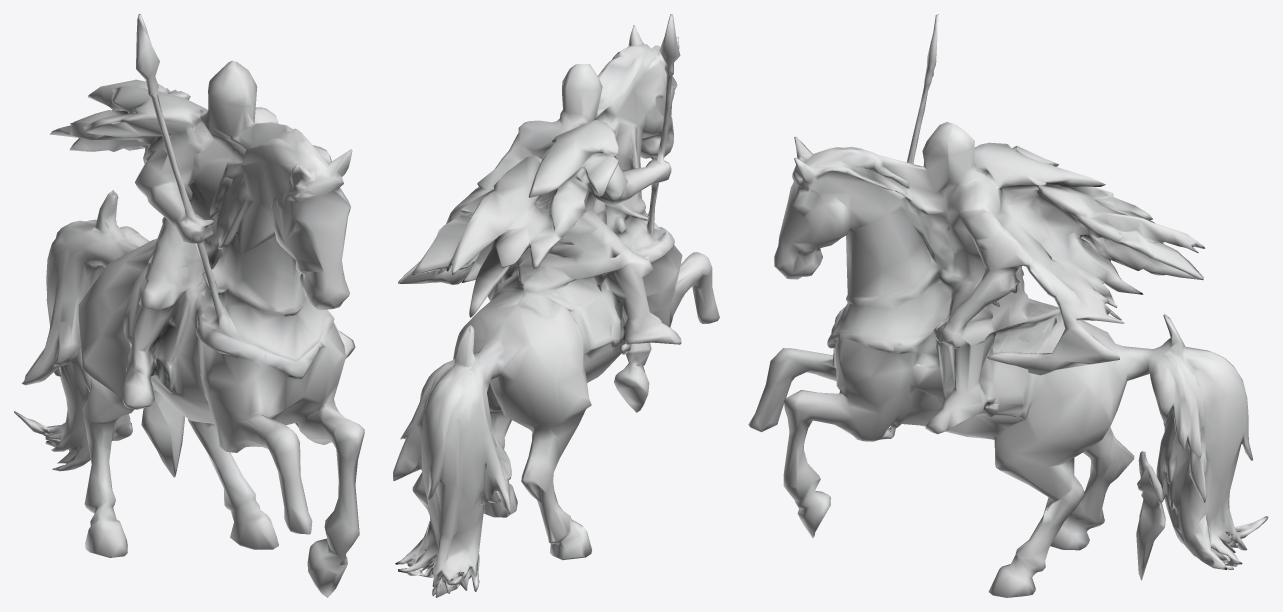
The model's file is Knight.fbx.
3 renders of one model, left to right at view 1: azimuth 30°, elevation 25°; view 2: azimuth 150°, elevation 25°; view 3: azimuth 270°, elevation 25°, orthographic. The views are drawn at different scales.
Parts seen in each view (by area): view 1: Mesh_0; view 2: Mesh_0; view 3: Mesh_0.
Part boxes in pixels (bbox=[...]): Mesh_0: bbox=[14, 14, 364, 597]; Mesh_0: bbox=[393, 14, 719, 597]; Mesh_0: bbox=[748, 14, 1268, 597].
Bounding box in the file's own units: 81.55 × 200 × 185.
Materials: 1 (1 with a texture image).
